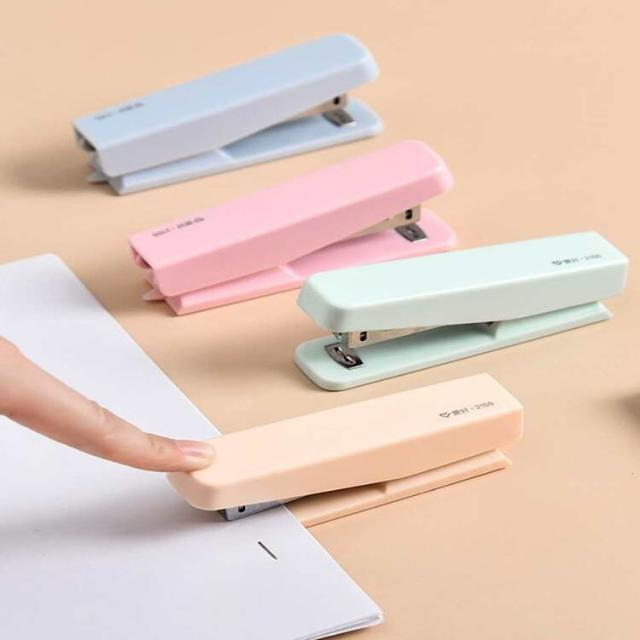Stapler: (55, 20, 384, 188)
